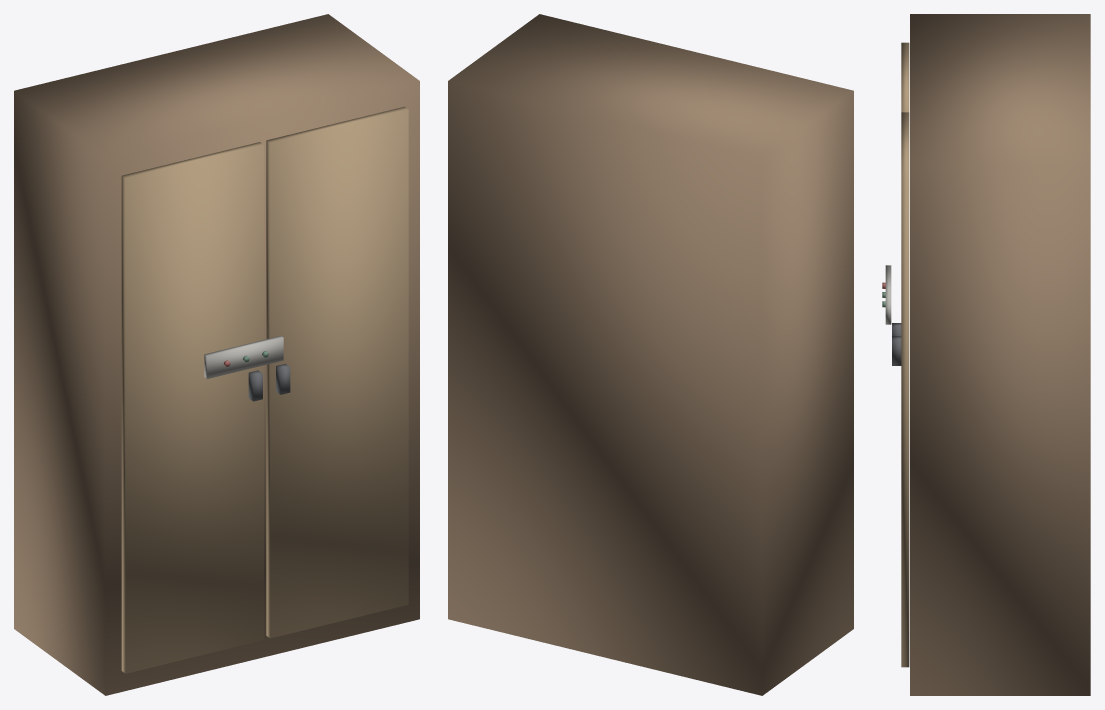
Rendered from wardrobe__reinforced.glb.
The picture shows the model from 3 angles, left to right: view 1: azimuth 30°, elevation 25°; view 2: azimuth 150°, elevation 25°; view 3: azimuth 270°, elevation 25°; orthographic projection.
Parts seen in each view (by area): view 1: world; view 2: world; view 3: world.
Boxes of the visible parts, box(x1,y1,x2,y2) form: world: box(14, 14, 419, 695); world: box(448, 14, 853, 695); world: box(882, 14, 1090, 695).
Bounding box in the file's own units: 1.18 × 1.94 × 0.6886.
